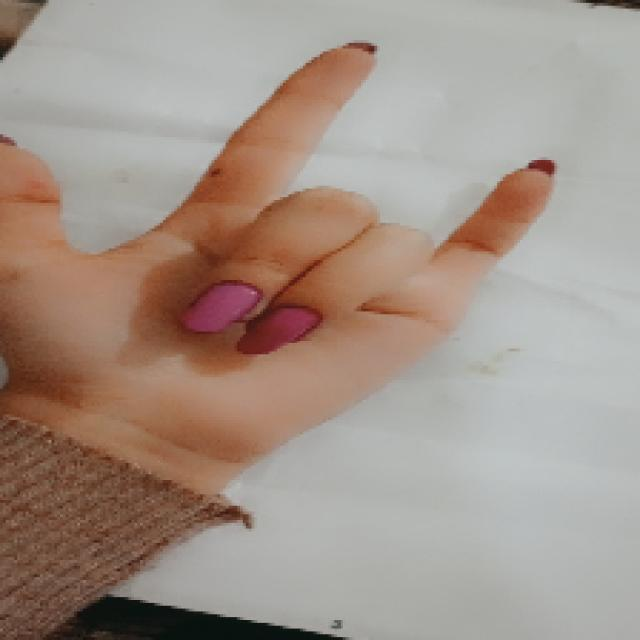Nail: (181, 282, 261, 332), (237, 308, 320, 353)
